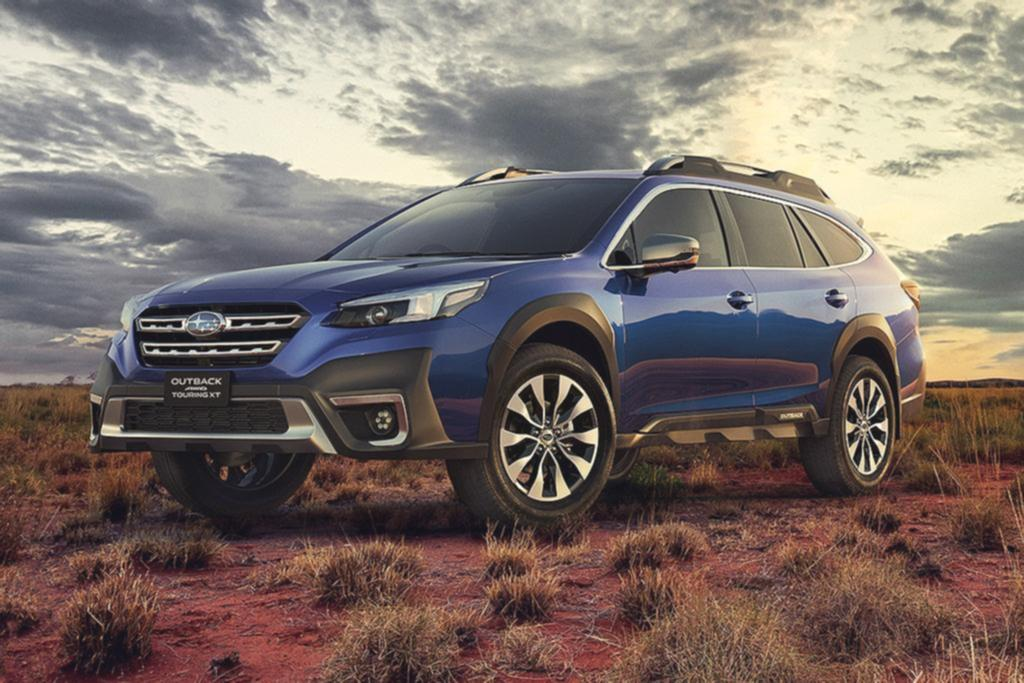subaru: (177, 302, 237, 343)
